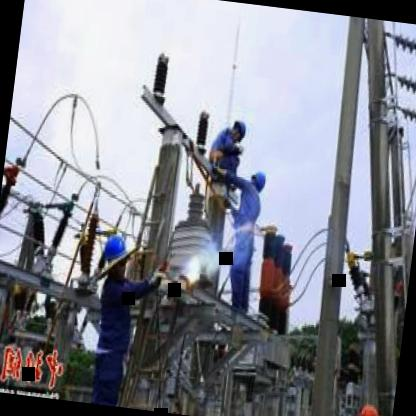helmet: (96, 226, 134, 286), (247, 166, 268, 196), (228, 116, 249, 142), (354, 400, 382, 416)
